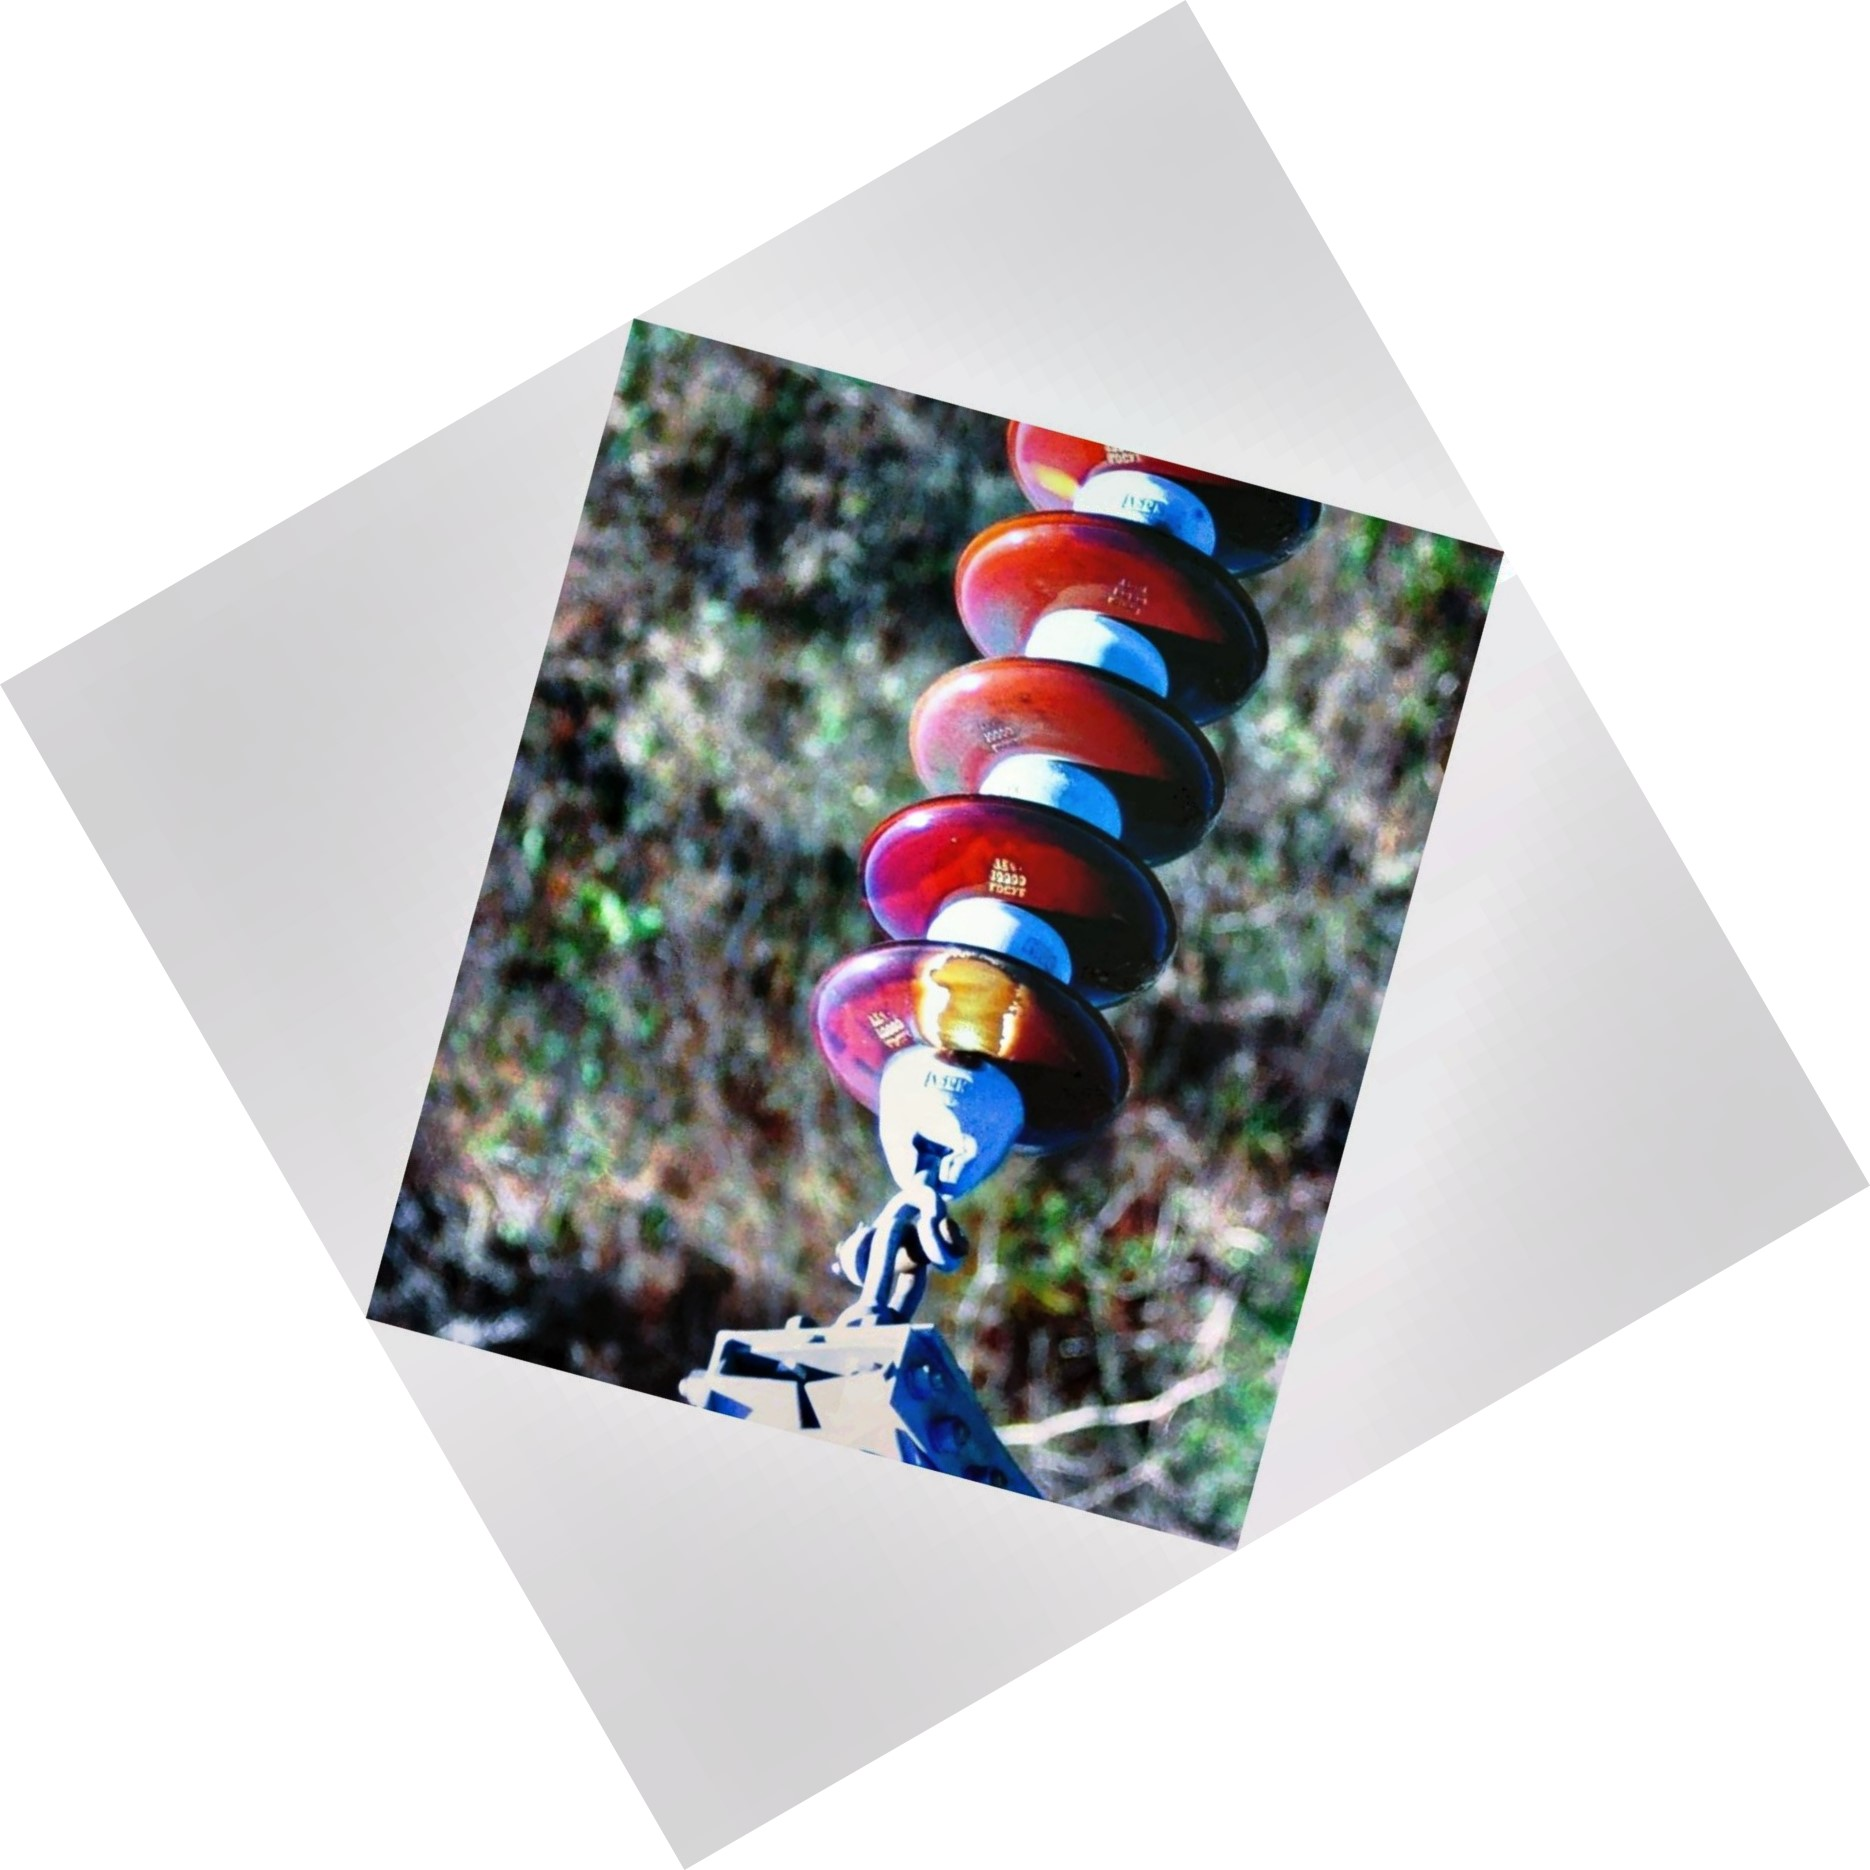Insulator flashover: (783, 928, 1151, 1183)
